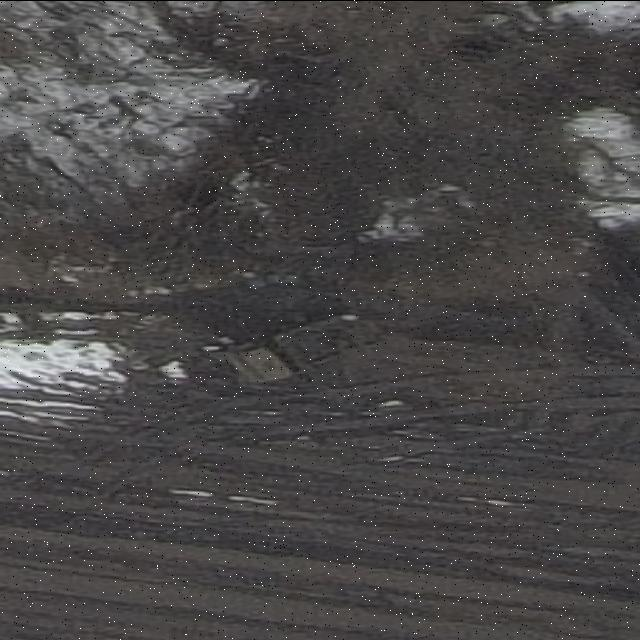TRUCK: (224, 307, 396, 383)
